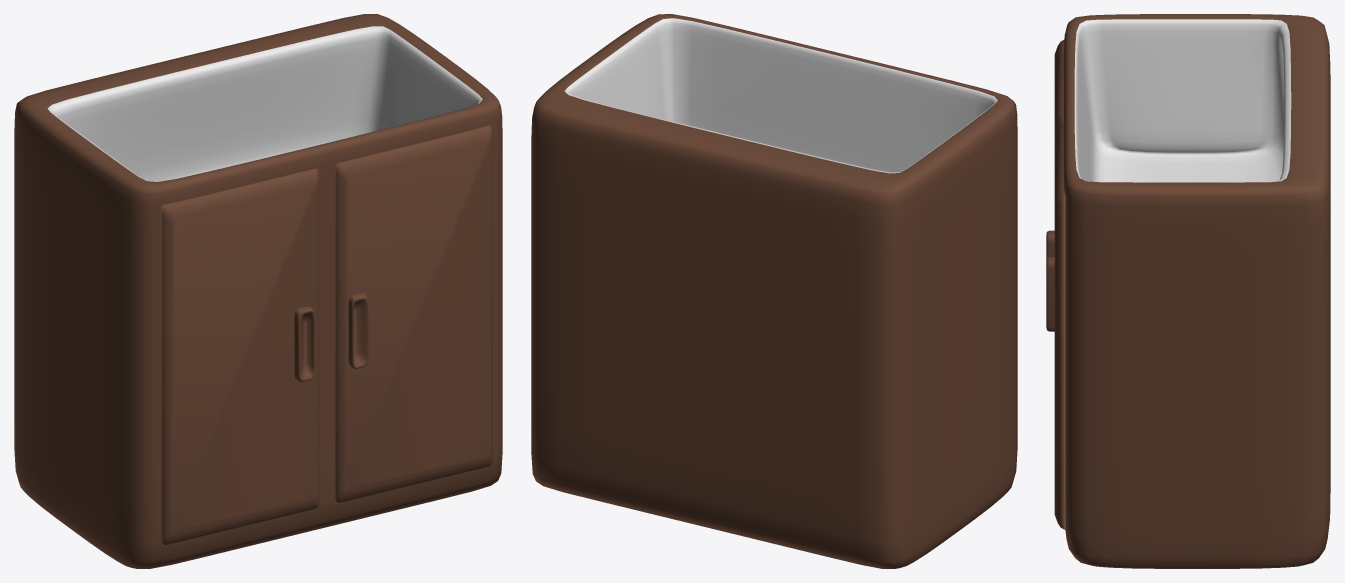
The model's file is Wash-basin_cabinet.fbx.
3 renders of one model, left to right at view 1: azimuth 30°, elevation 25°; view 2: azimuth 150°, elevation 25°; view 3: azimuth 270°, elevation 25°, orthographic.
Visible parts, largest first — view 1: Wash-basin_cabinet.001; view 2: Wash-basin_cabinet.001; view 3: Wash-basin_cabinet.001.
Part boxes in pixels (x1,y1,x2,y2): Wash-basin_cabinet.001: (14,14,502,568); Wash-basin_cabinet.001: (531,14,1017,568); Wash-basin_cabinet.001: (1046,14,1330,568).
Size of the model in its own units: 64.41 by 63.37 by 42.72.
